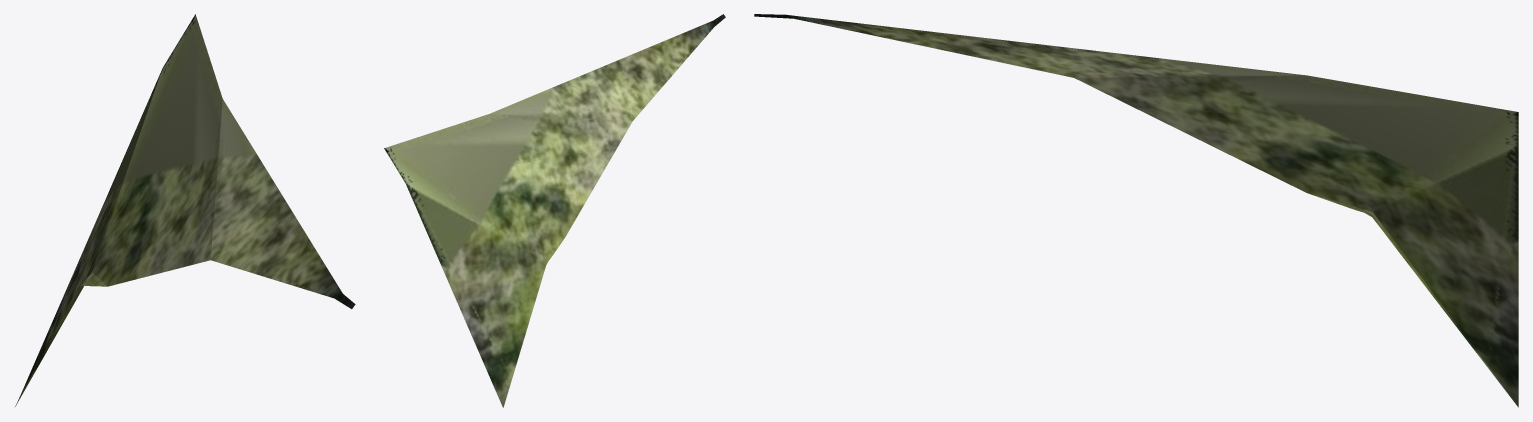
The picture shows the model from 3 angles, left to right: view 1: azimuth 30°, elevation 25°; view 2: azimuth 150°, elevation 25°; view 3: azimuth 270°, elevation 25°; orthographic projection. The views are drawn at different scales.
Size of the model in its own units: 1.83 by 3.37 by 5.9.
1 material, 1 textured.
